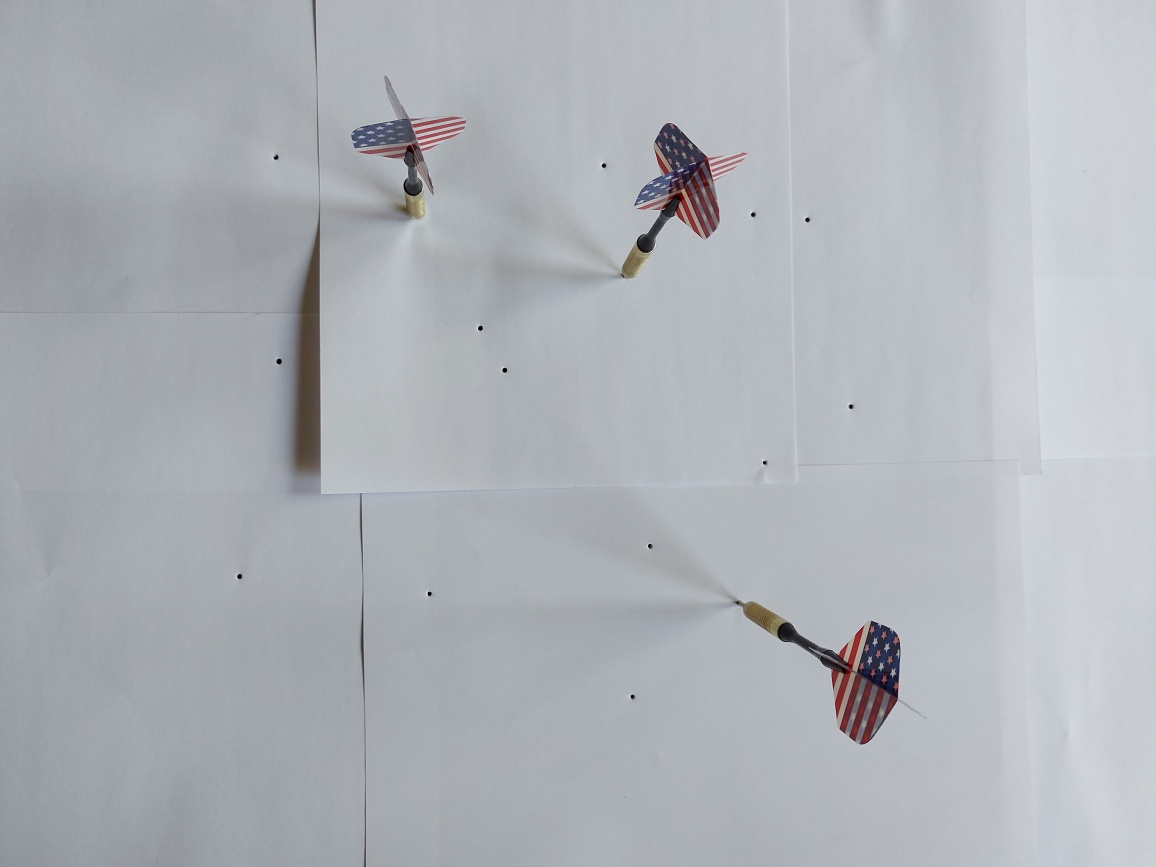Dart: (727, 585, 934, 751), (612, 112, 753, 290), (347, 70, 468, 239)
